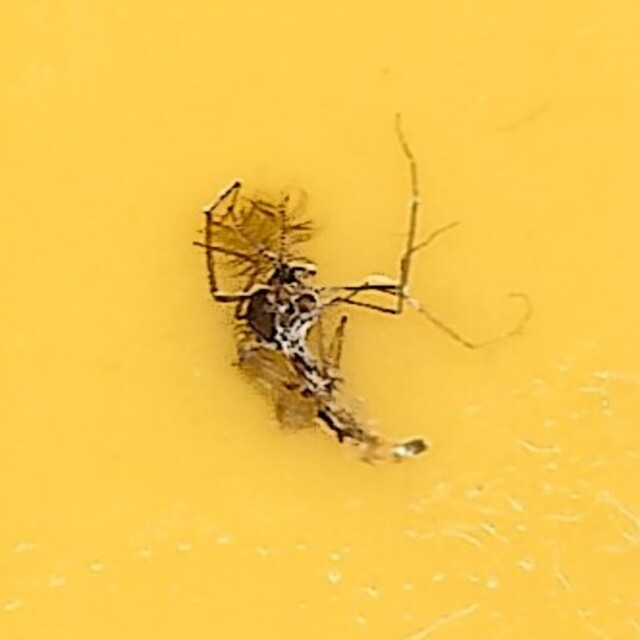Nematocera: (193, 168, 447, 472)
